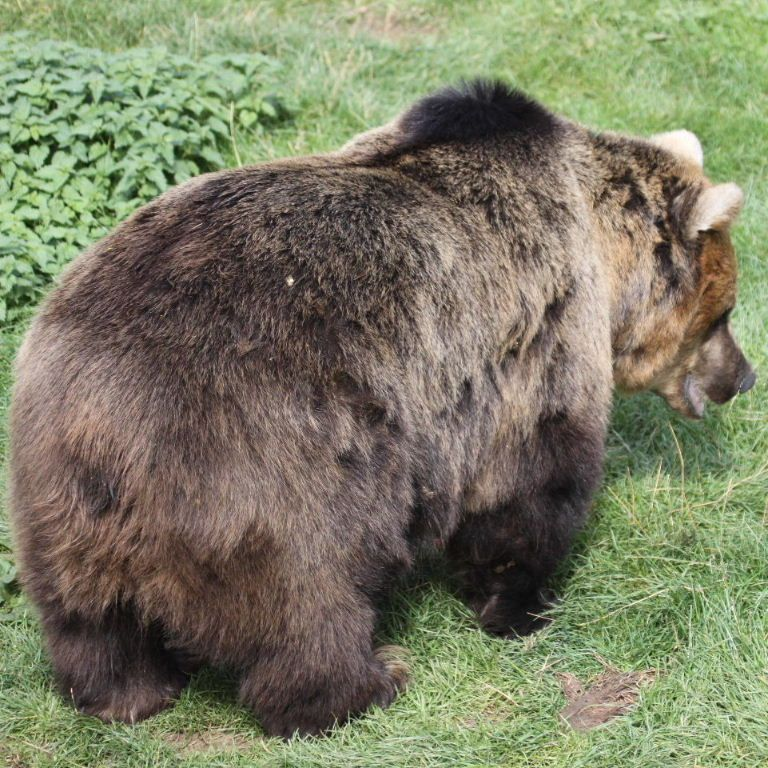bear: (3, 85, 759, 751)
